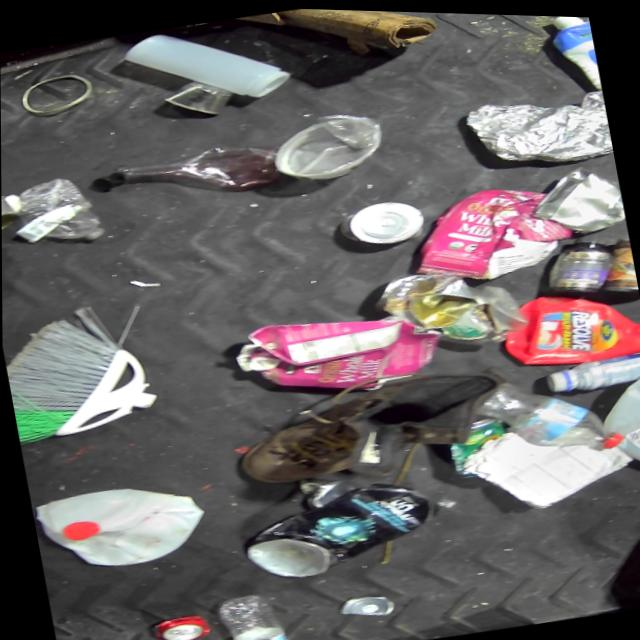can: (364, 257, 486, 335), (322, 182, 440, 261), (527, 157, 627, 240), (588, 228, 640, 301), (143, 596, 220, 640)
milk_jug: (29, 467, 217, 589), (583, 357, 640, 482)
non_white_jug: (479, 273, 640, 376)
plastic_bottle: (457, 356, 635, 478), (9, 167, 108, 253), (201, 583, 296, 640)
